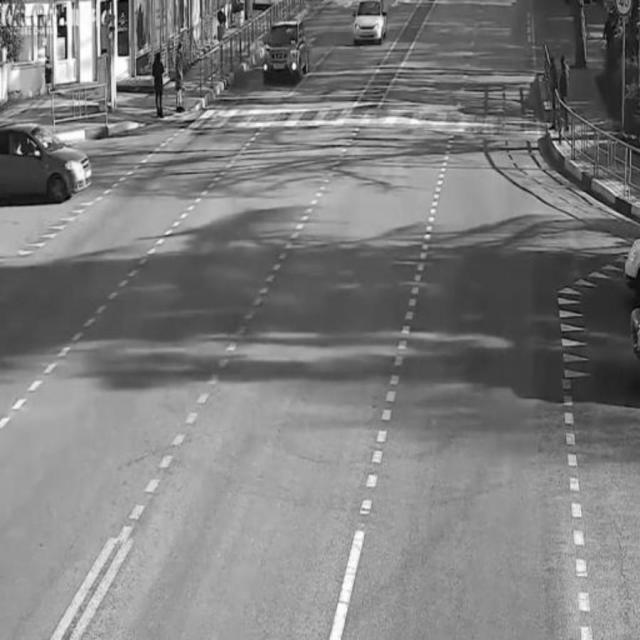person: (149, 43, 167, 121), (172, 31, 187, 119), (558, 44, 573, 127), (546, 52, 561, 130)
vehicle: (1, 122, 92, 202), (258, 17, 312, 85), (348, 0, 385, 50), (621, 235, 640, 303)
